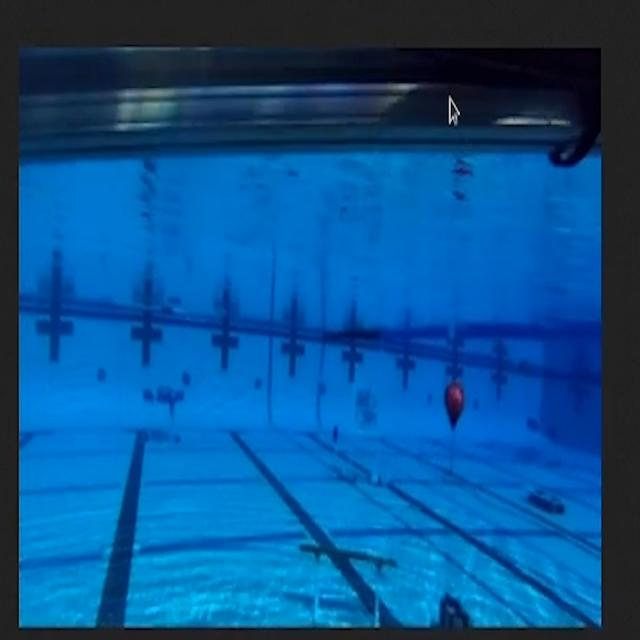Buoy: (439, 377, 472, 442)
